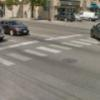crosswalks: (1, 37, 99, 68)
